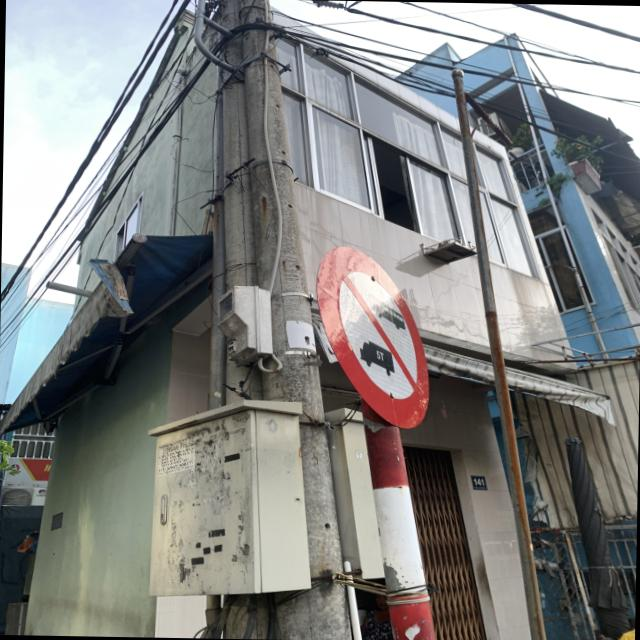Cam_XeTai_XeKhach: (309, 236, 440, 434)
